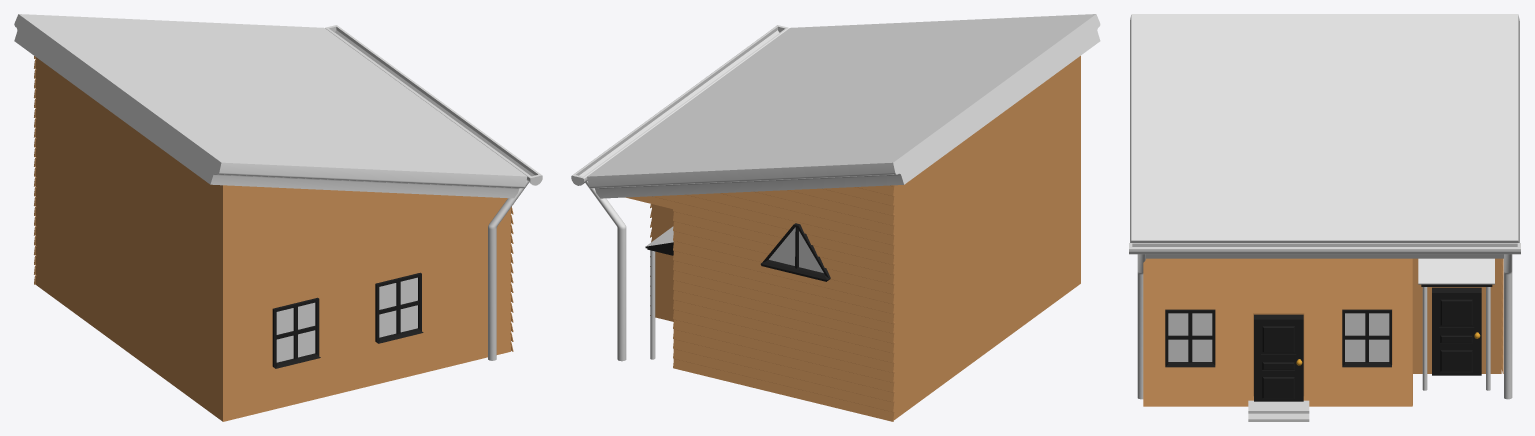
The picture shows the model from 3 angles, left to right: view 1: azimuth 30°, elevation 25°; view 2: azimuth 150°, elevation 25°; view 3: azimuth 270°, elevation 25°; orthographic projection. The views are drawn at different scales.
Parts seen in each view (by area): view 1: Object; view 2: Object; view 3: Object.
Part boxes in pixels (left/top/right/bottom): Object: left=14, top=14, right=542, bottom=421; Object: left=571, top=14, right=1100, bottom=421; Object: left=1129, top=14, right=1520, bottom=421.
Bounding box in the file's own units: 15.04 × 11.42 × 15.79.
